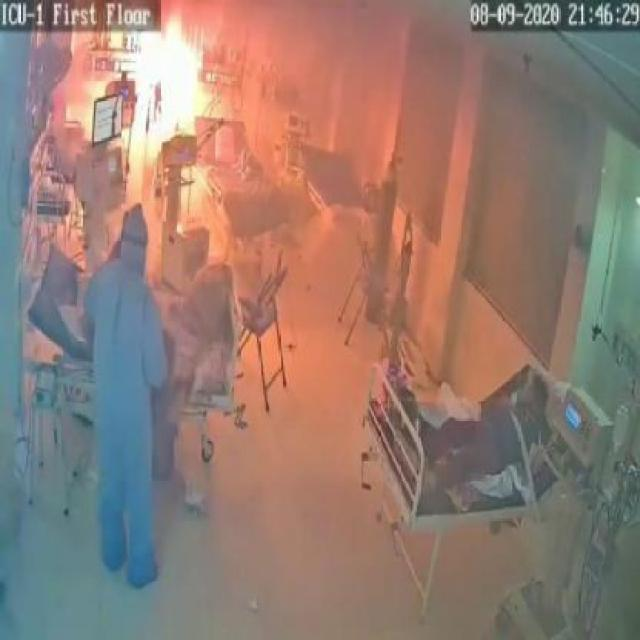fire: (101, 12, 214, 170)
smoke: (250, 5, 548, 234)
